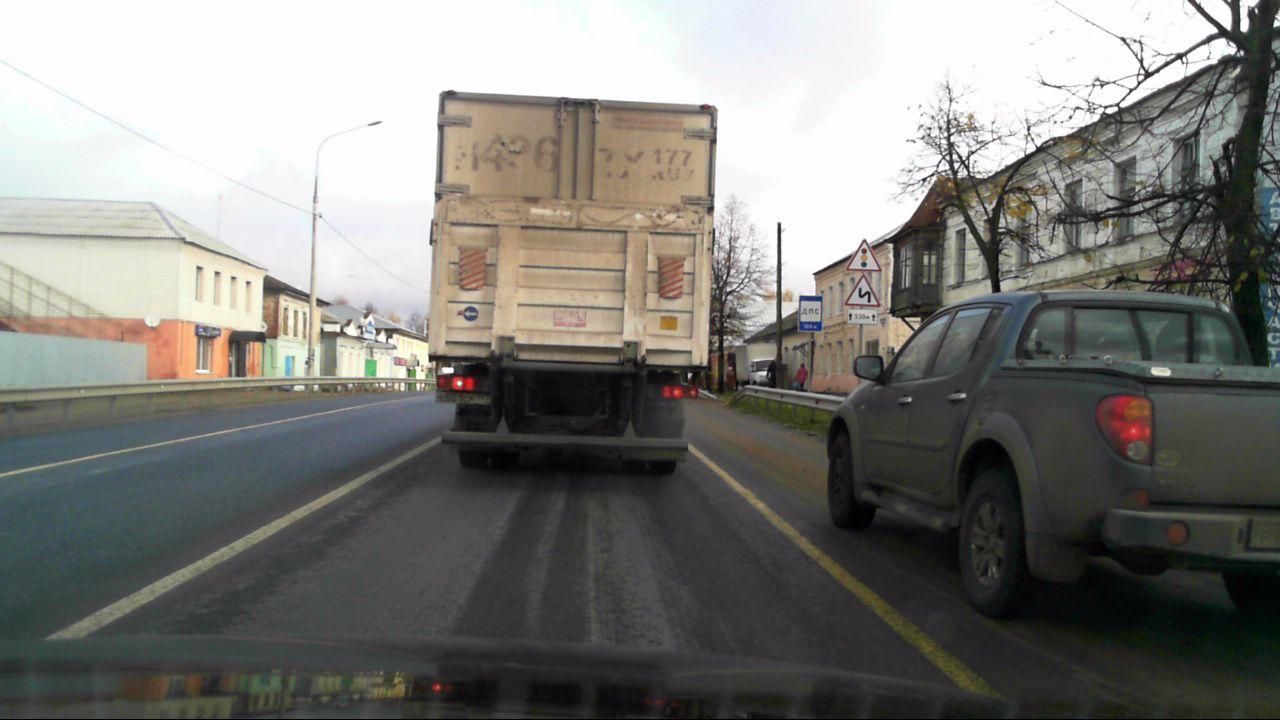1_12_2: (844, 274, 882, 306)
1_8: (847, 236, 882, 271)
7_12: (798, 294, 823, 332)
8_2_1: (847, 309, 878, 325)
